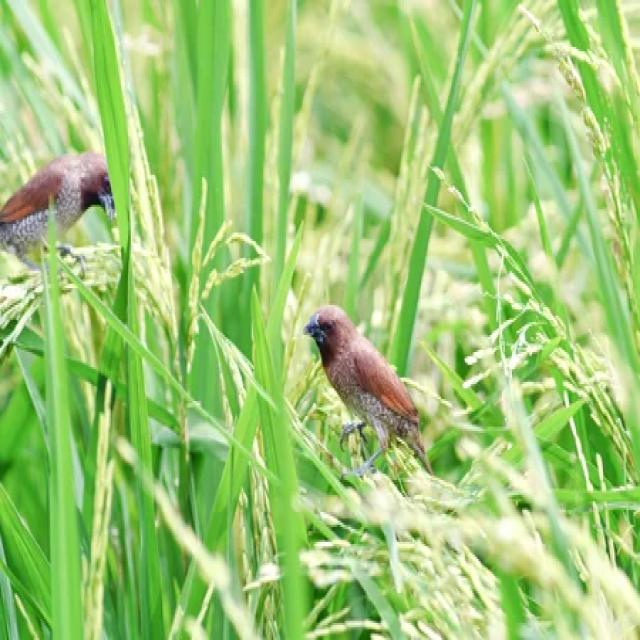bird: (306, 310, 419, 430)
